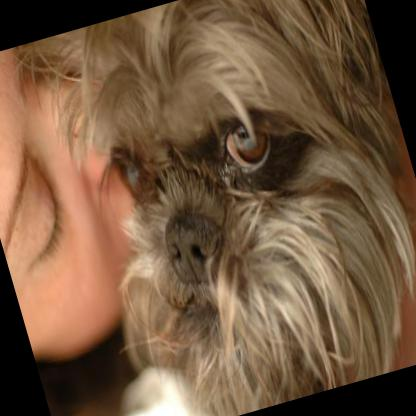affenpinscher: (66, 0, 416, 416)
